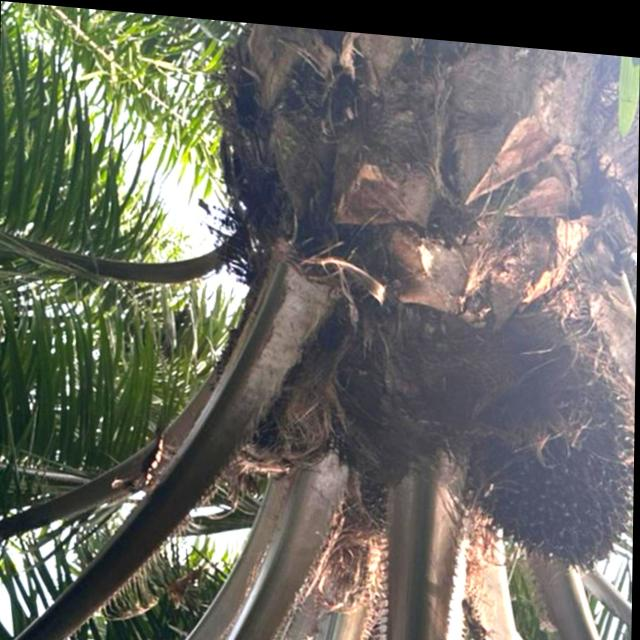unripe: (461, 364, 636, 574)
